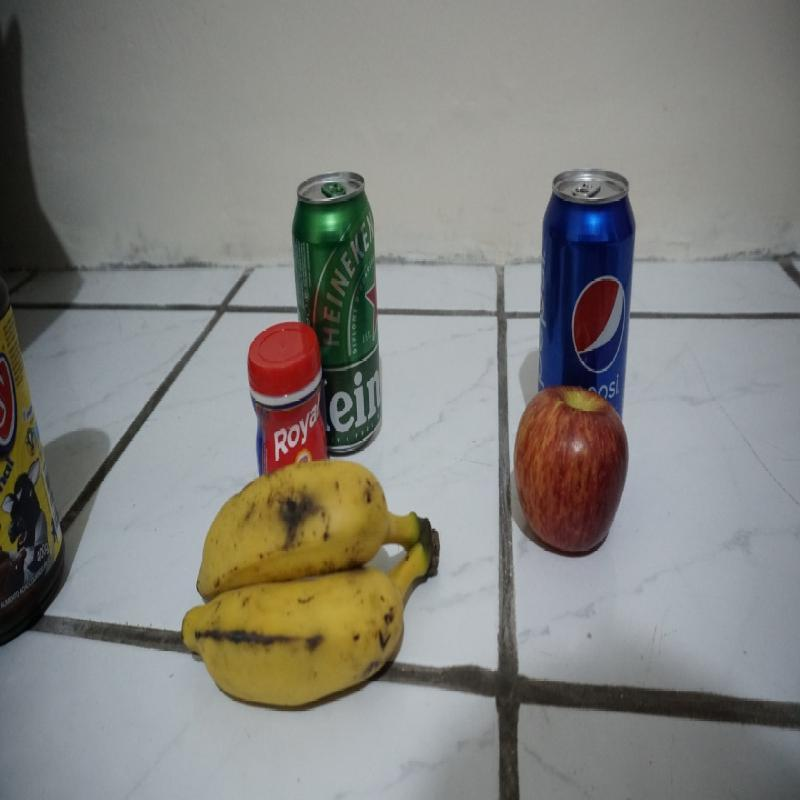Apple: (512, 385, 631, 556)
Banana: (177, 460, 439, 709)
Beer can: (291, 169, 384, 454)
Chocolate Powder: (0, 269, 67, 654)
Soda can: (536, 167, 638, 442)
Yeast: (245, 320, 333, 489)
